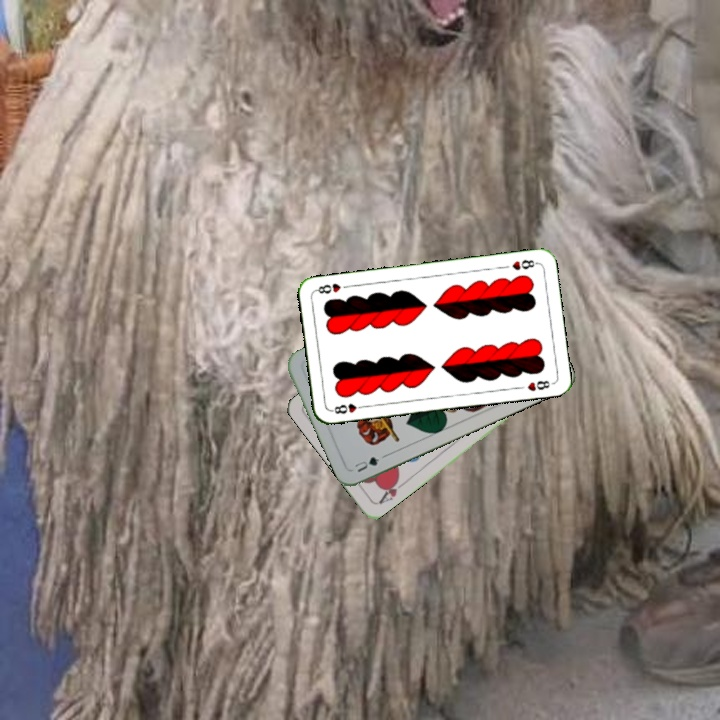GU: (350, 451, 388, 475)
H8: (327, 399, 368, 417), (508, 255, 540, 272)
HA: (374, 473, 409, 507)
